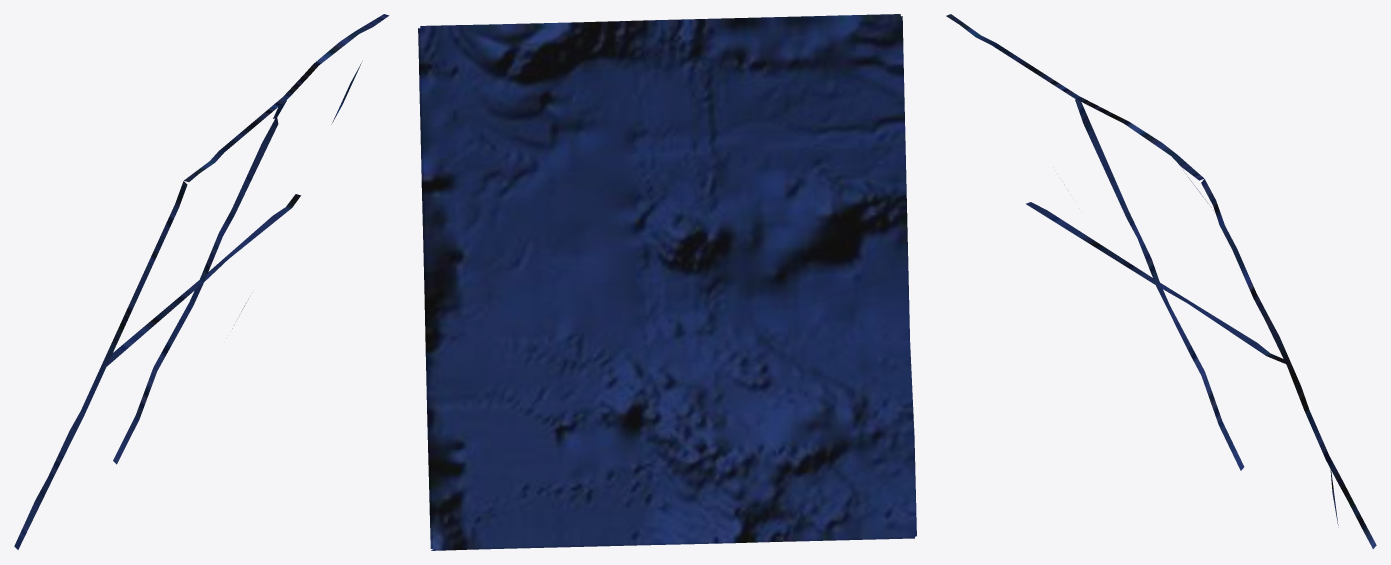
3 renders of one model, left to right at view 1: azimuth 30°, elevation 25°; view 2: azimuth 150°, elevation 25°; view 3: azimuth 270°, elevation 25°, orthographic. The views are drawn at different scales.
Size of the model in its own units: 78383 by 72970 by 67268.
Materials: 1 (1 with a texture image).
